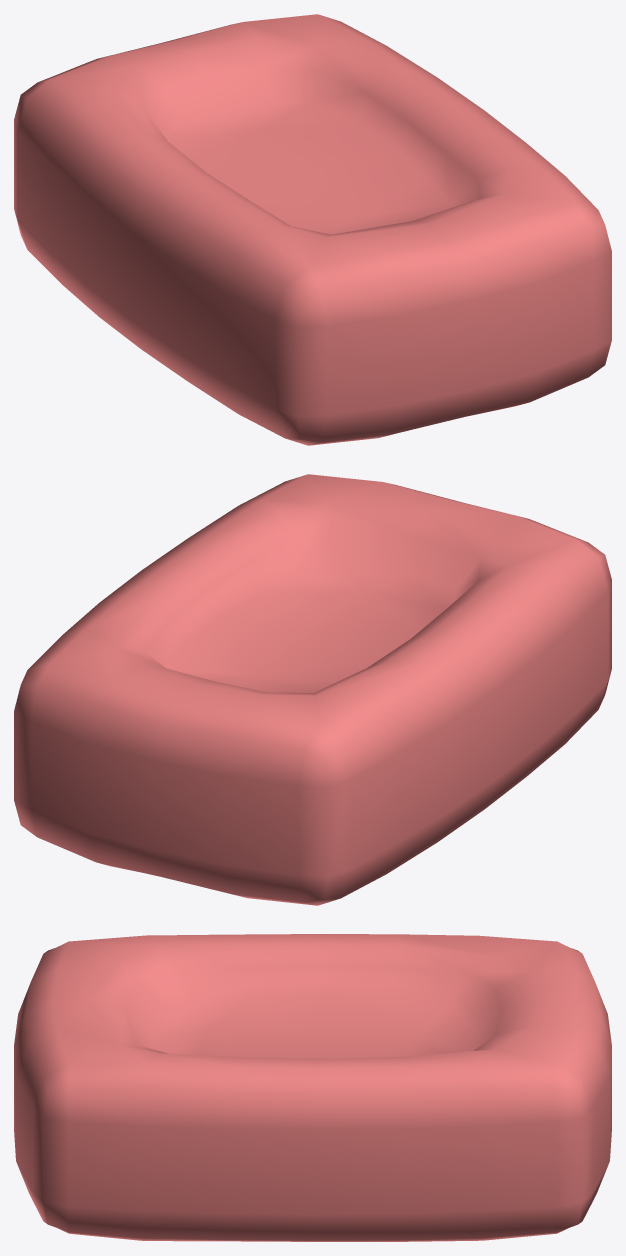
File: soap01.fbx
3 views of the same model, one above another, from view 1: azimuth 30°, elevation 25°; view 2: azimuth 150°, elevation 25°; view 3: azimuth 270°, elevation 25° (orthographic). The views are drawn at different scales.
Parts seen in each view (by area): view 1: pCube5; view 2: pCube5; view 3: pCube5.
Boxes of the visible parts, x1,y1,x2,y2 form: pCube5: [14, 14, 611, 445]; pCube5: [14, 474, 611, 905]; pCube5: [14, 934, 611, 1241].
Bounding box in the file's own units: 1.76 × 0.8984 × 2.63.
